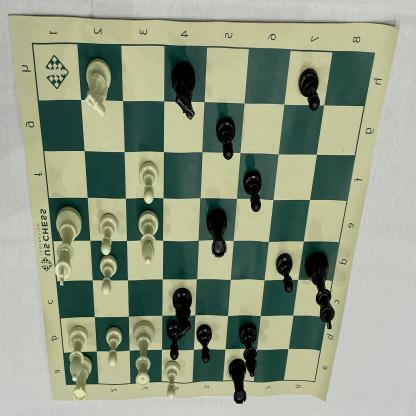black-bishop: (238, 320, 258, 381)
black-king: (304, 250, 338, 334)
black-knight: (167, 59, 199, 129), (167, 286, 197, 342)
black-pawn: (297, 65, 322, 116), (213, 116, 238, 165), (241, 166, 265, 217), (162, 319, 184, 363), (194, 322, 215, 366), (274, 251, 294, 297)
black-rook: (204, 206, 231, 263), (224, 356, 249, 409)
white-bishop: (132, 206, 162, 270), (64, 324, 91, 386)
white-king: (50, 200, 86, 292)
white-knight: (79, 51, 116, 126)
white-pawn: (94, 209, 121, 260), (101, 323, 126, 373), (137, 156, 161, 207), (96, 249, 120, 299), (162, 356, 183, 404)
white-queen: (129, 317, 158, 393)
white-rook: (70, 353, 96, 407)
